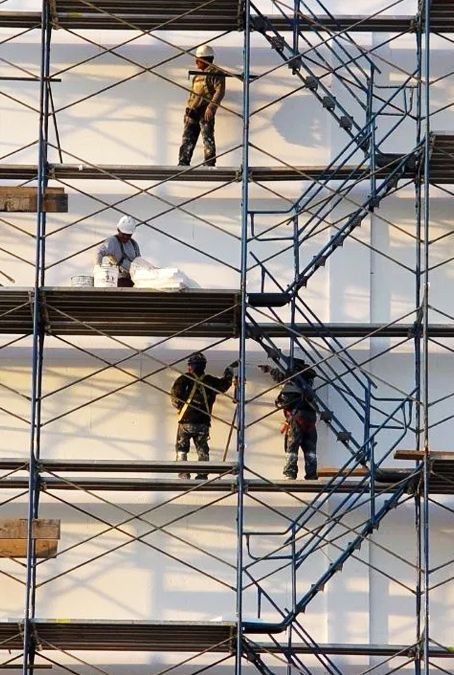hardhat: (188, 37, 218, 67), (109, 215, 138, 244), (183, 347, 215, 372)
person: (141, 338, 226, 483), (166, 37, 247, 181), (262, 340, 335, 486), (87, 210, 141, 302)
safety_vest: (187, 65, 240, 119)
